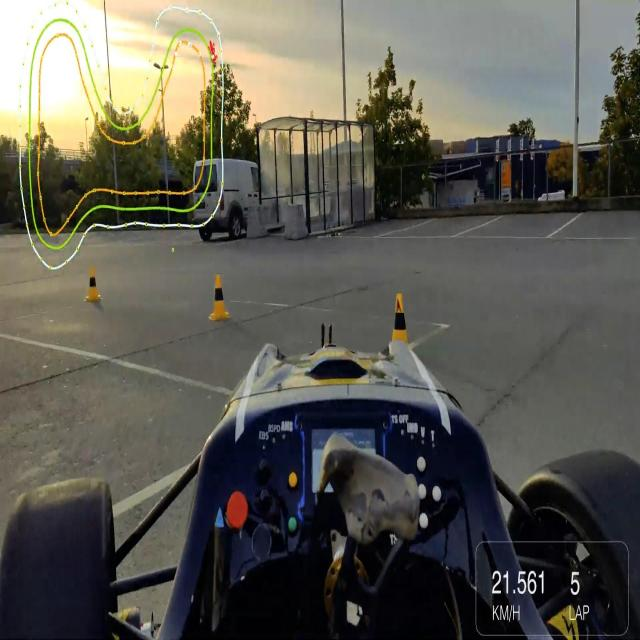yellow_cone: (382, 285, 418, 353), (206, 268, 233, 328), (82, 260, 104, 309)
